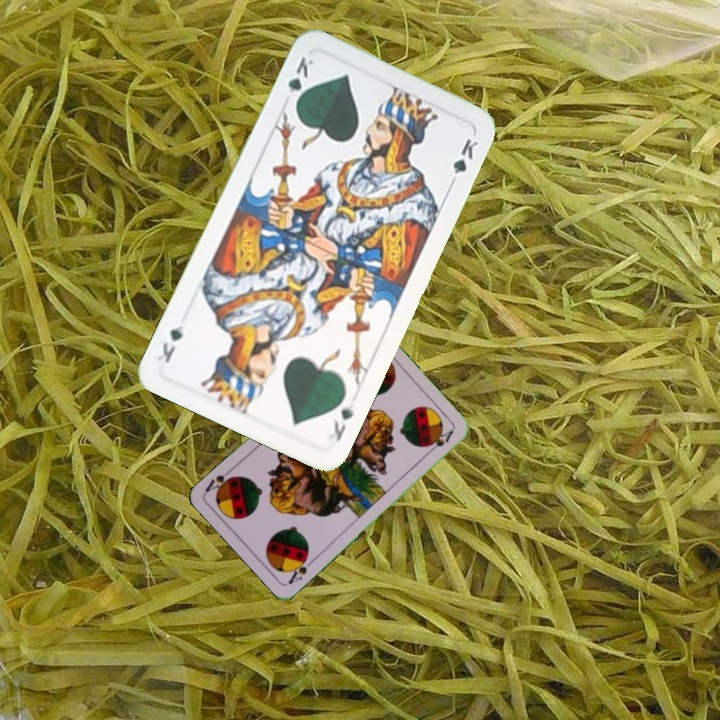GK: (284, 52, 317, 110), (324, 399, 357, 445)
SA: (284, 551, 317, 587)
